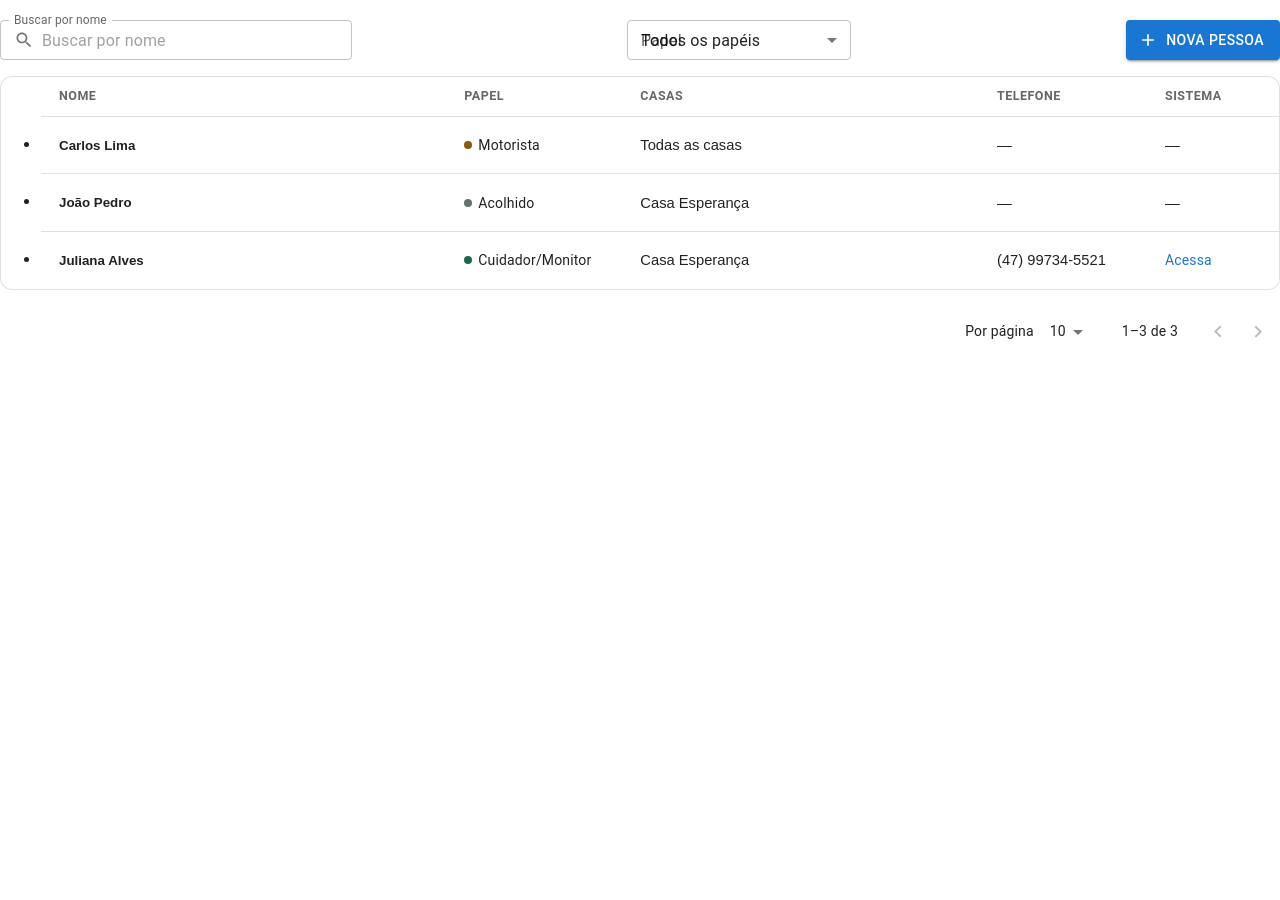
PeoplePage › cadastra uma pessoa já vinculada à casa marcada
Click the button "Nova pessoa": point(1203, 40) [1126,20,1279,60]
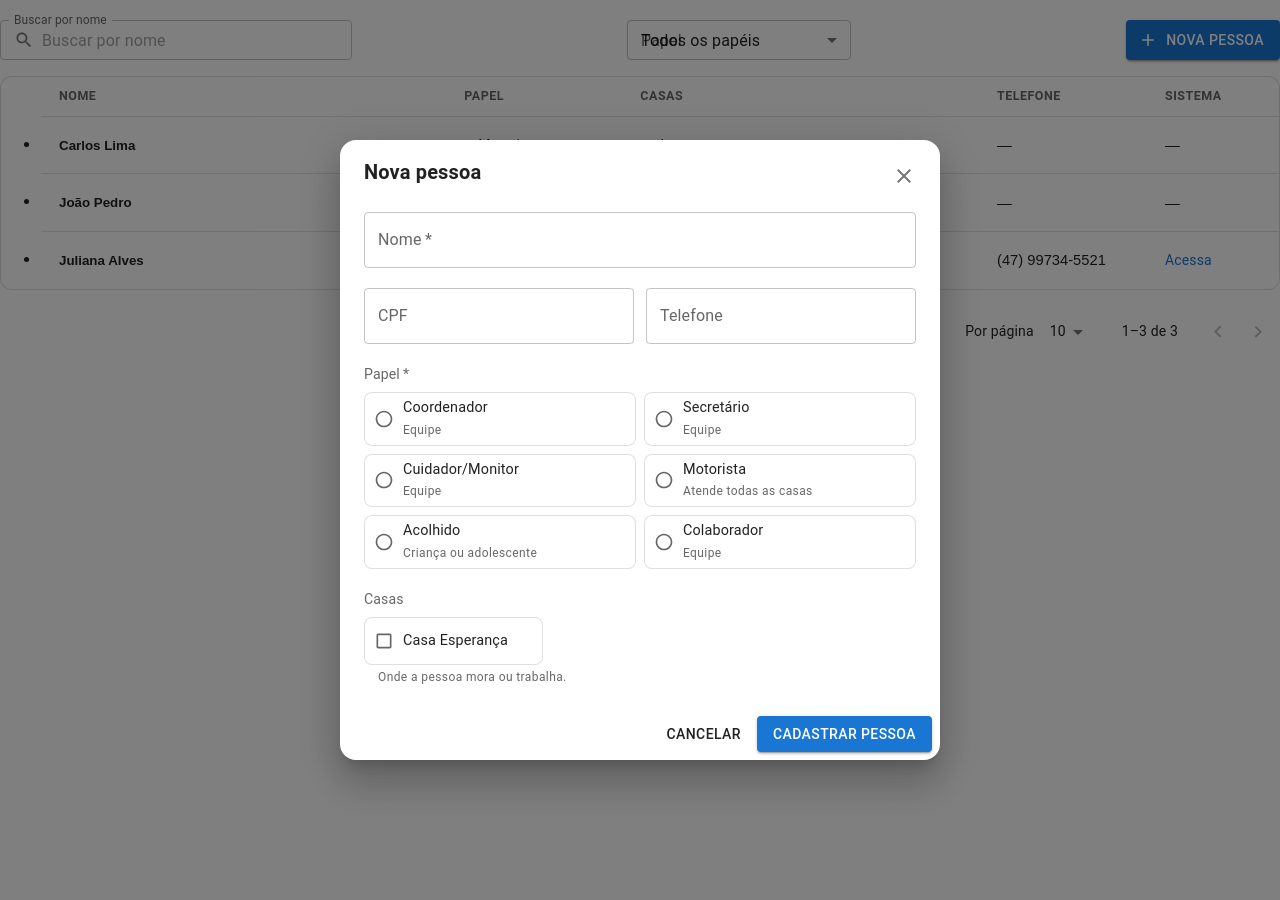
In the field labelled "Nome *": point(640, 240) [364,212,916,268], type "Maria Clara"
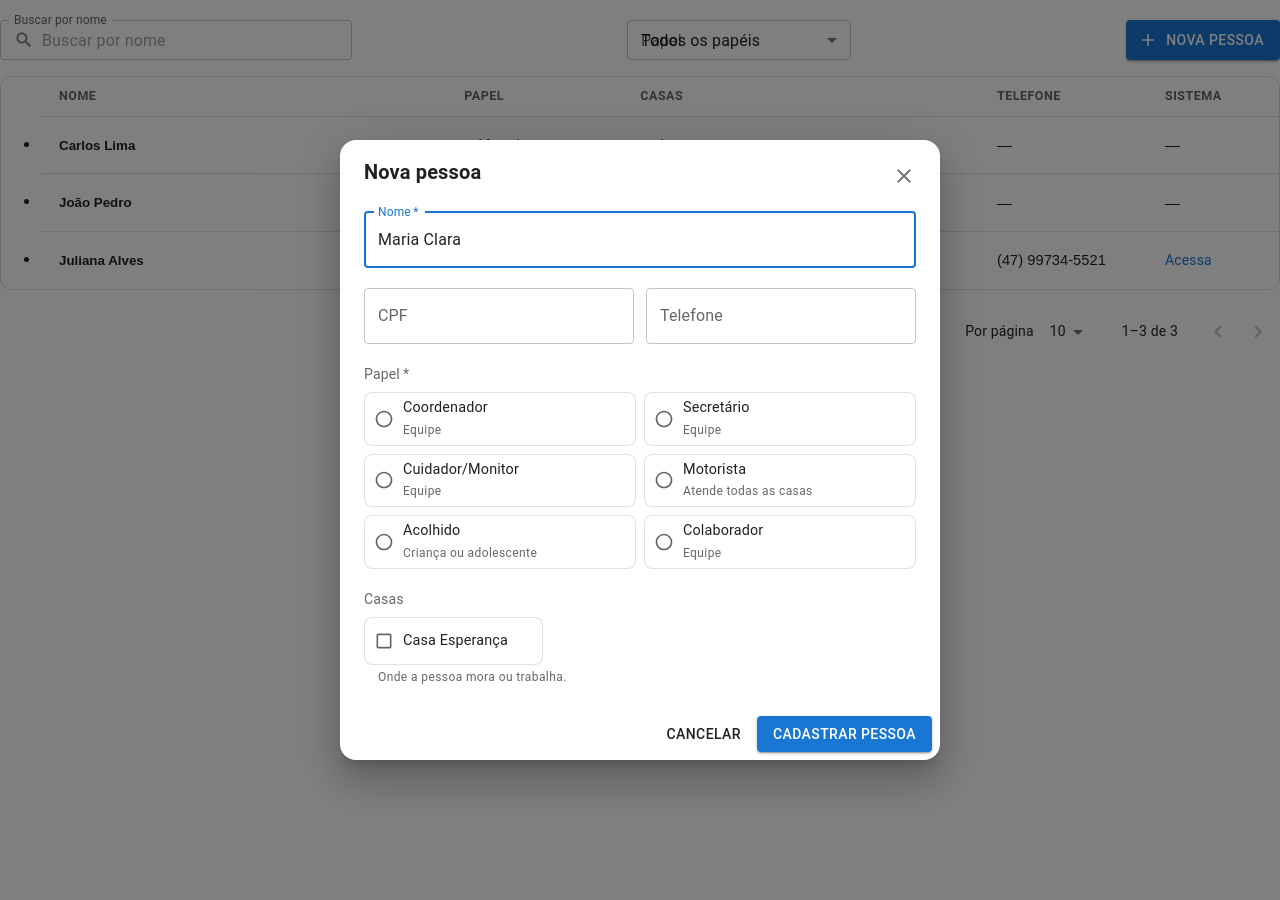
Click the radio button labelled "Acolhido Criança ou adolescente": point(432, 531) [364,515,636,568]
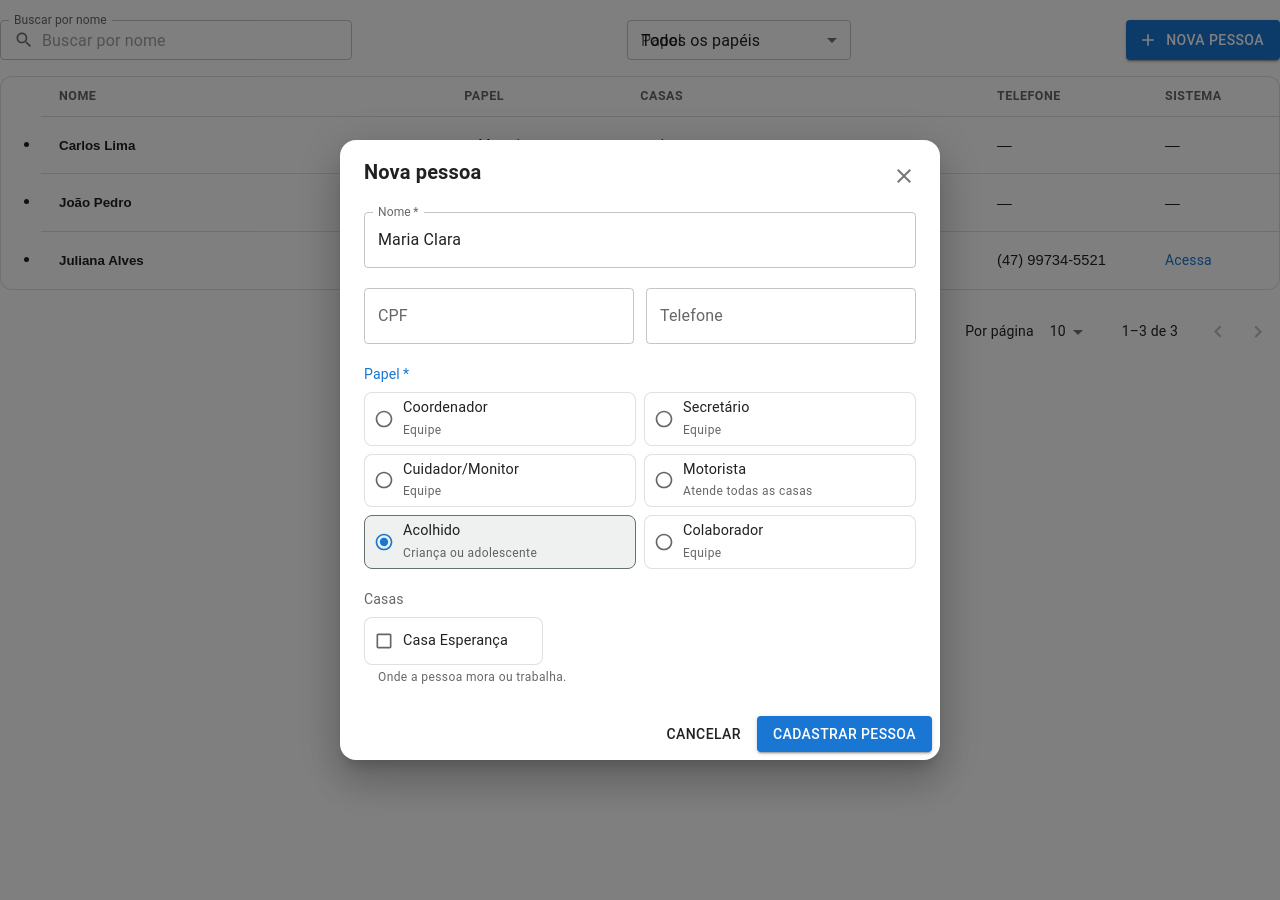
Click the checkbox labelled "Casa Esperança": point(453, 641) [364,617,543,665]
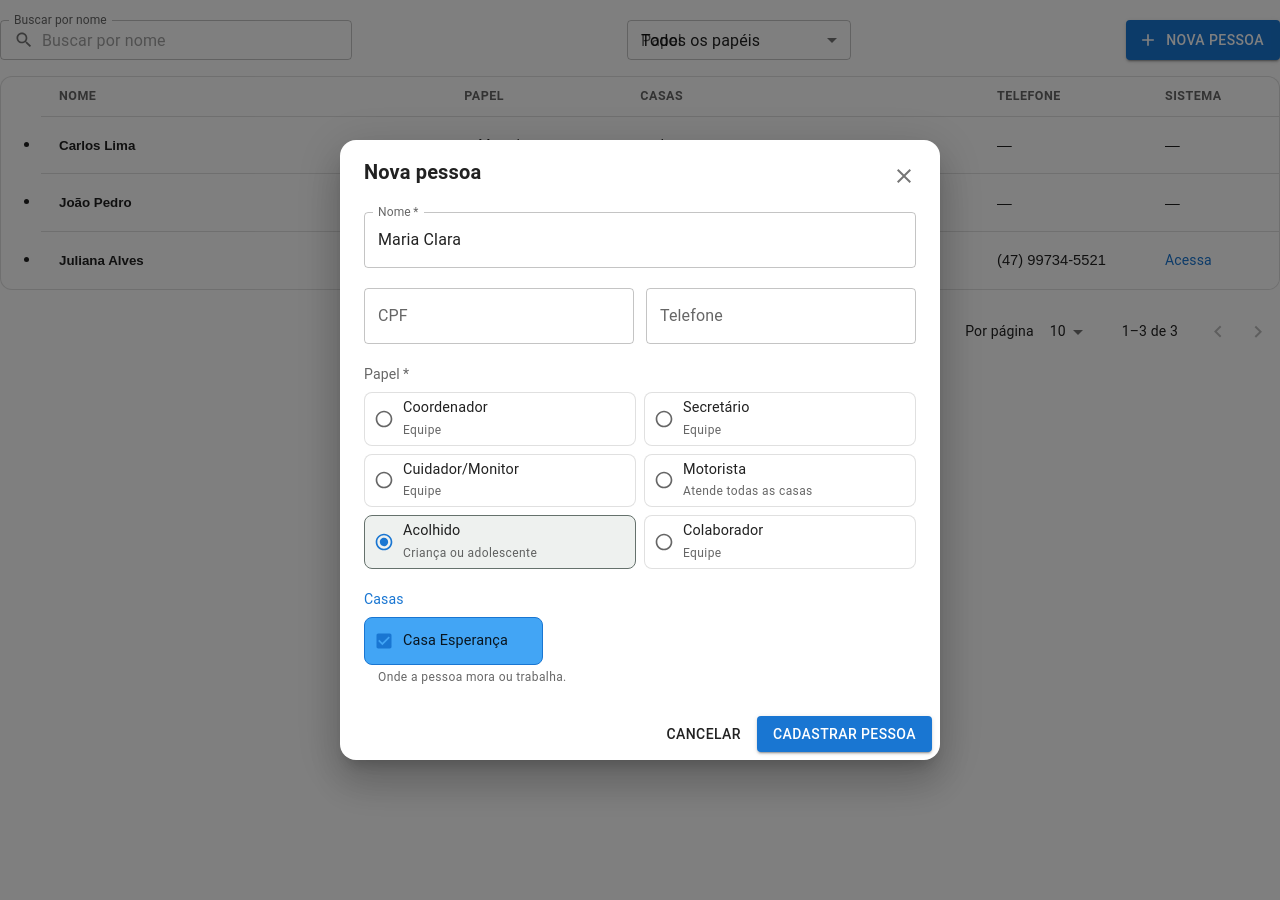
Click the button "Cadastrar pessoa": point(844, 734) [757,716,932,752]
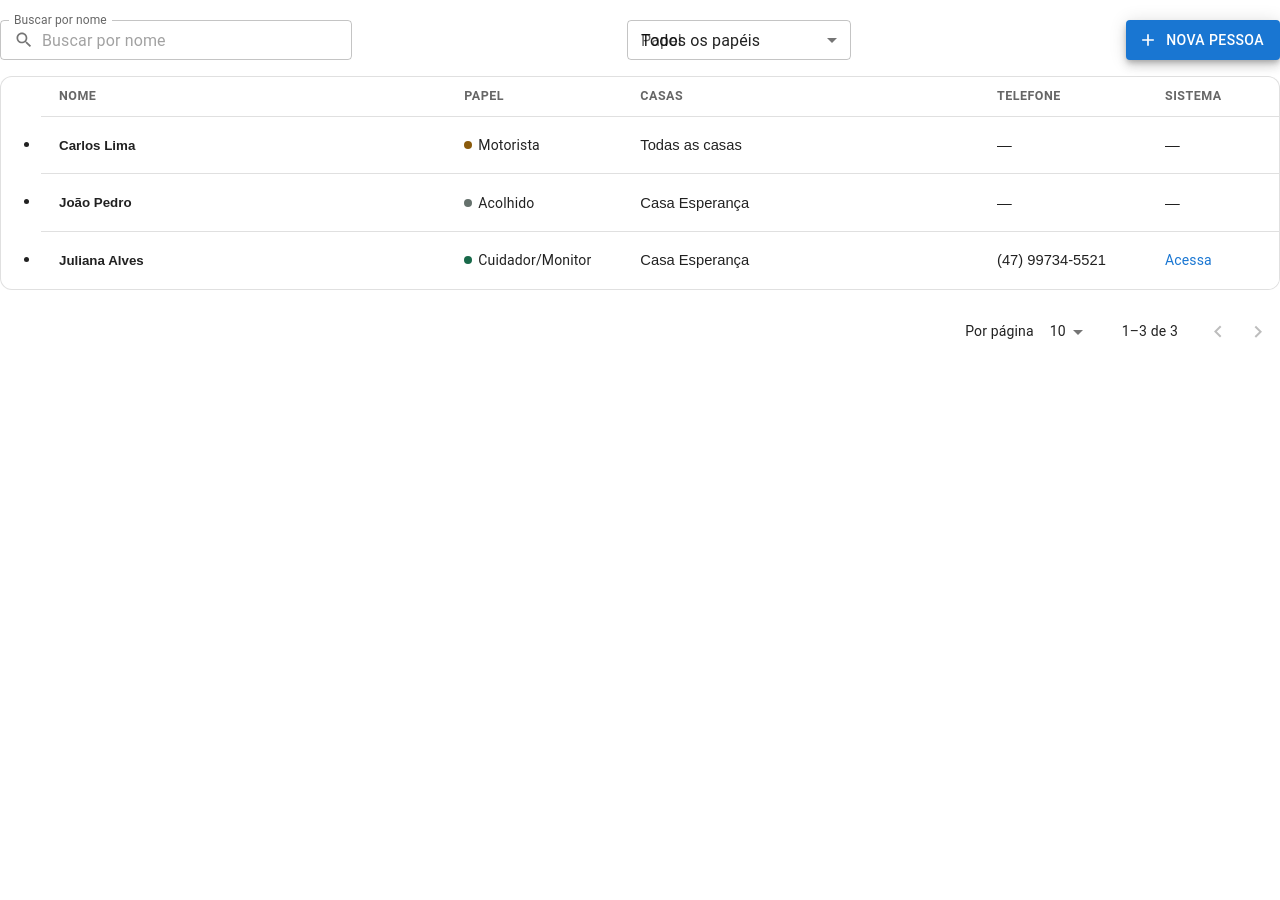
Expected: the dialog is gone
